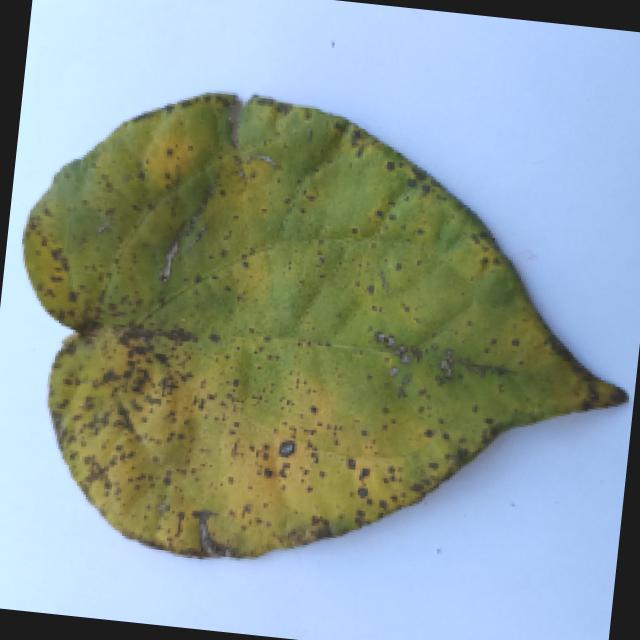slow-decline: (6, 86, 640, 612)
